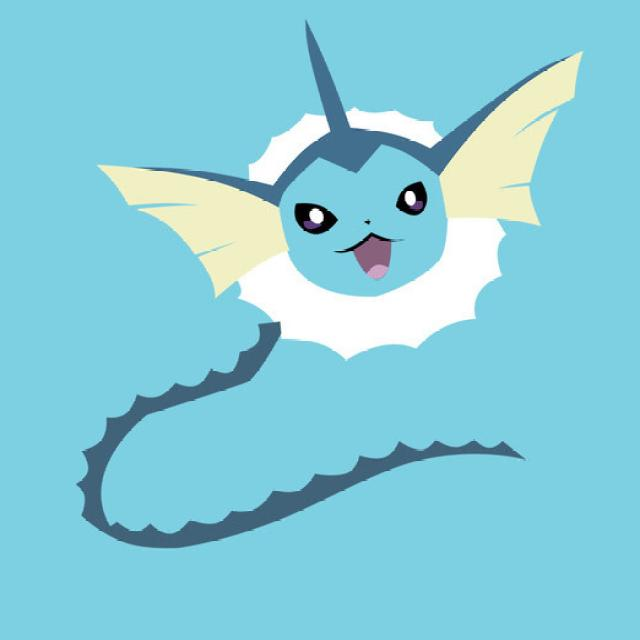Vaporeon: (126, 26, 594, 406)
